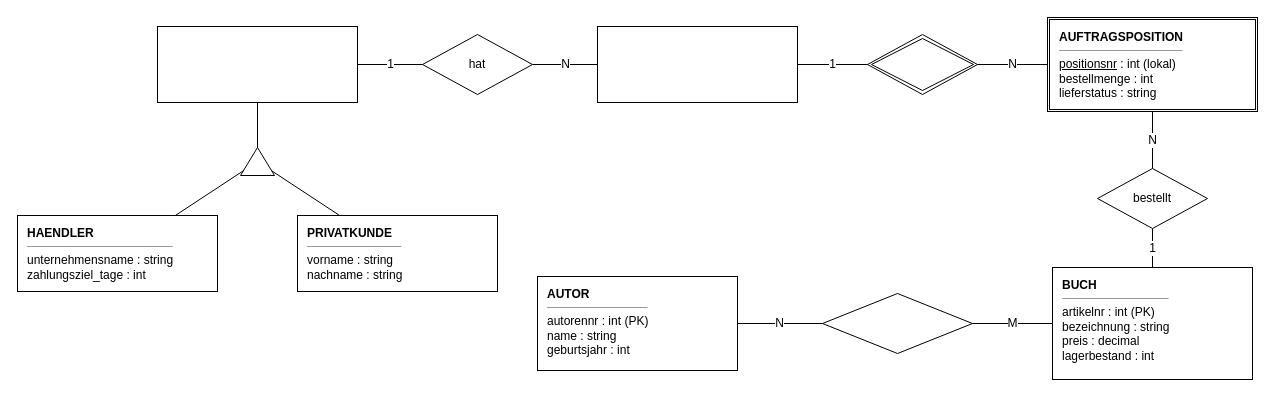
Some shapes in this 1275 by 397 pixel diagram are drawn without their labels. Each missing label, with the centre of its shape:
AUFTRAG auftragsnr : int (PK) eingangsdatum : date: the point at 697,64
geschrieben_von: the point at 897,323
KUNDE kundennr : int (PK) anschrift : string: the point at 257,64
umfasst: the point at 922,64
